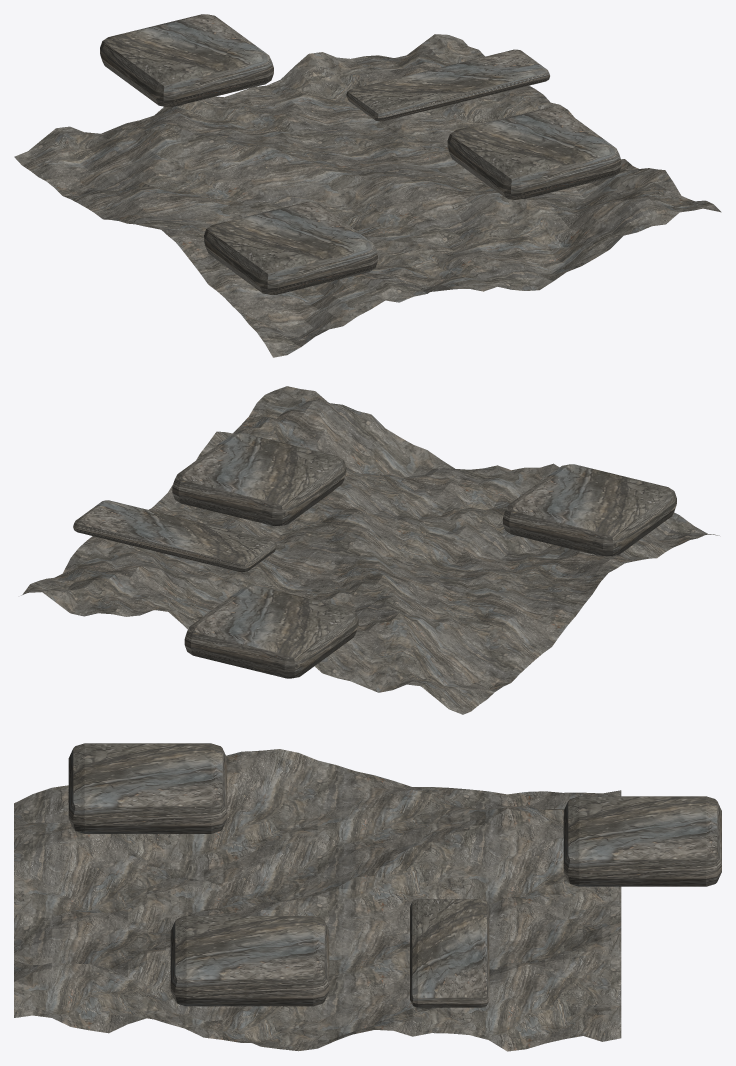
The model's file is terrain_chunk.glb.
The picture shows the model from 3 angles, top to bottom: view 1: azimuth 30°, elevation 25°; view 2: azimuth 150°, elevation 25°; view 3: azimuth 270°, elevation 25°; orthographic projection. The views are drawn at different scales.
Visible parts, largest first — view 1: TerrainMass, TerrainBlob1, TerrainBlob2, TerrainBlob0, TerrainScar; view 2: TerrainMass, TerrainBlob2, TerrainBlob0, TerrainBlob1, TerrainScar; view 3: TerrainMass, TerrainBlob0, TerrainBlob1, TerrainBlob2, TerrainScar.
Boxes of the visible parts, box(x1,y1,x2,y2) form: TerrainMass: box(14, 34, 721, 357); TerrainBlob1: box(204, 202, 377, 294); TerrainBlob2: box(100, 14, 273, 107); TerrainBlob0: box(447, 107, 621, 199); TerrainScar: box(346, 49, 549, 121); TerrainMass: box(21, 386, 719, 714); TerrainBlob2: box(184, 585, 358, 678); TerrainBlob0: box(172, 433, 346, 526); TerrainBlob1: box(503, 464, 676, 556); TerrainScar: box(73, 500, 276, 572); TerrainMass: box(14, 749, 621, 1051); TerrainBlob0: box(170, 916, 329, 1006); TerrainBlob1: box(68, 743, 227, 833); TerrainBlob2: box(563, 796, 721, 886); TerrainScar: box(410, 899, 489, 1007).
Size of the model in its own units: 46 by 7.16 by 53.62.
1 material, 1 textured.
